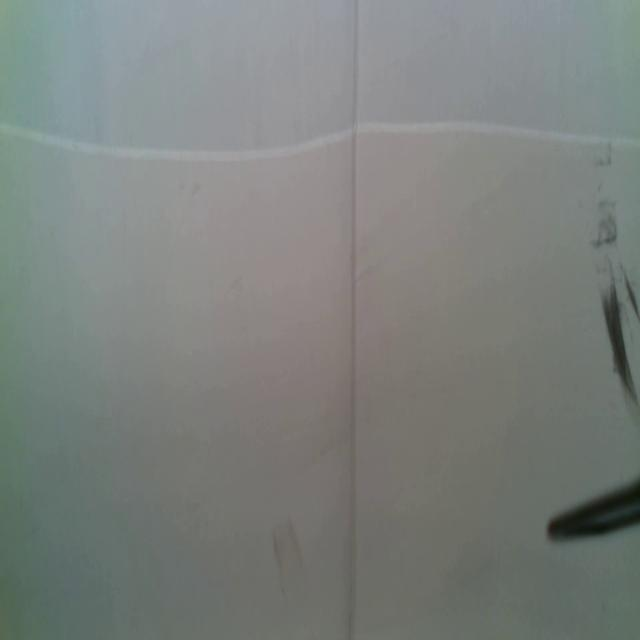crease: (348, 0, 361, 640)
